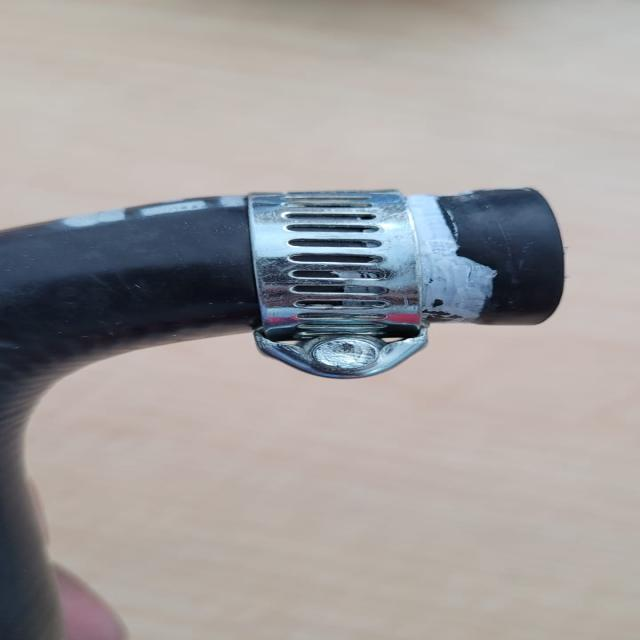clamp: (246, 190, 430, 381)
pipe: (407, 190, 561, 326)
